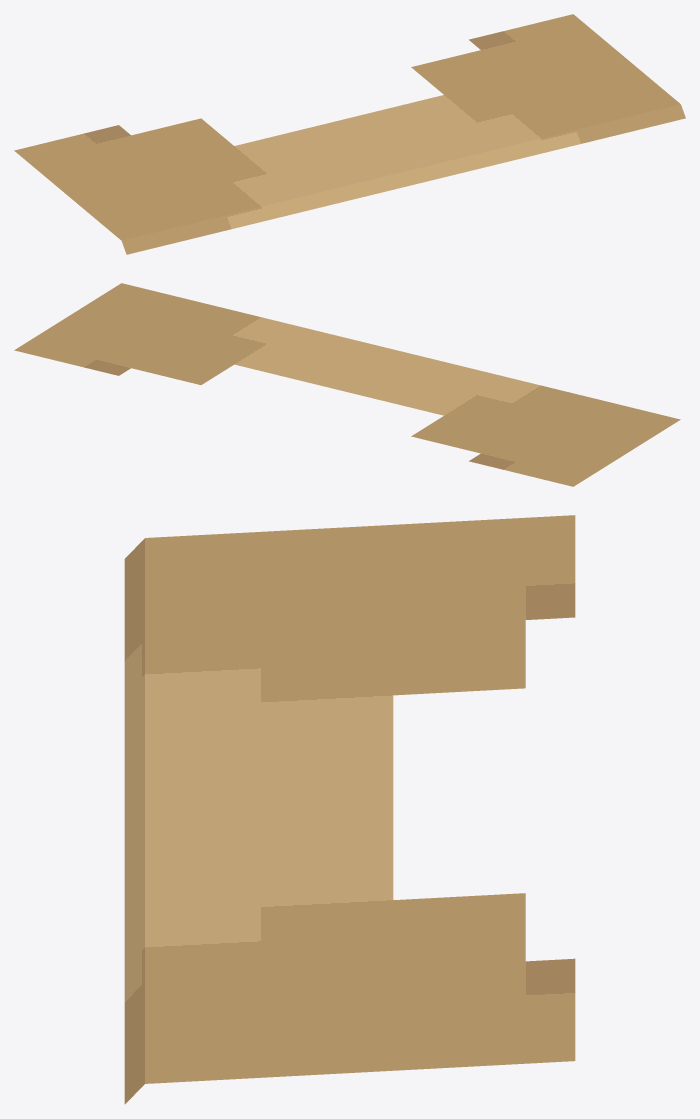
3 views of the same model, one above another, from view 1: azimuth 30°, elevation 25°; view 2: azimuth 150°, elevation 25°; view 3: azimuth 270°, elevation 25° (orthographic). The views are drawn at different scales.
Bounding box in the file's own units: 1 × 0.0373 × 0.3486.
Materials: 1 (1 with a texture image).
